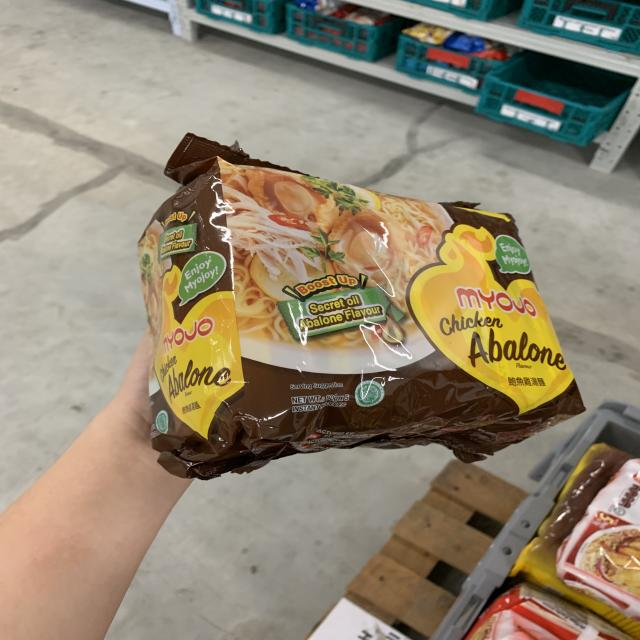object_name: (164, 171, 570, 436)
